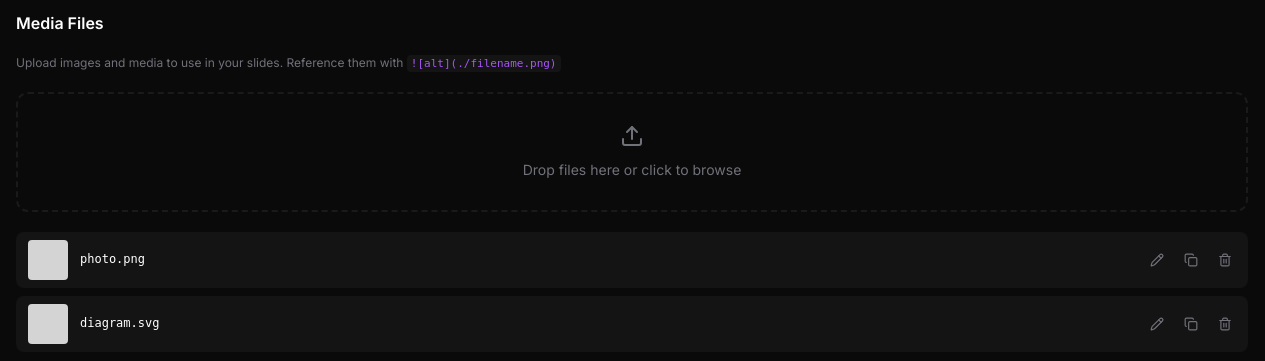
Test case: MediaPanel › shows rename input when rename button is clicked
Expected: the text "photo.png" is shown, [80, 252, 145, 266]
Click the button named "Rename photo.png" at (1157, 260), box [1146, 249, 1168, 271]
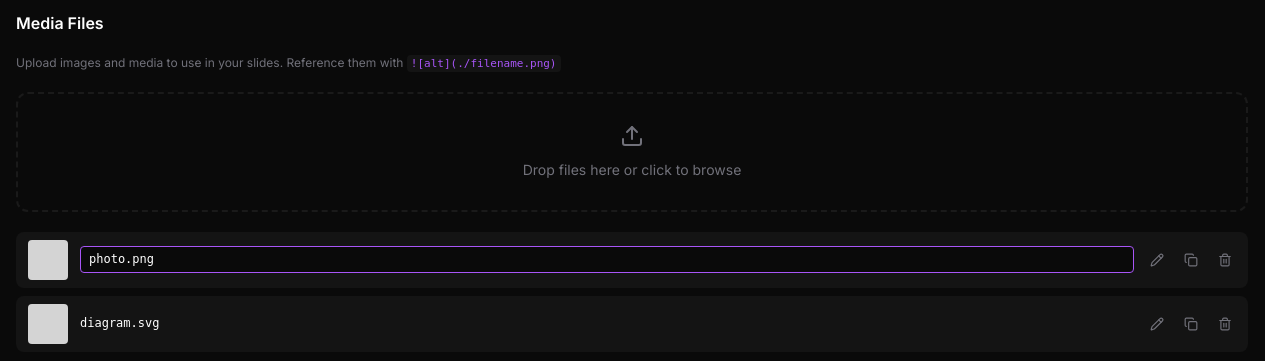
Result: the field with test id "media-rename-input" holds "photo.png" at [80, 246, 1134, 273]
